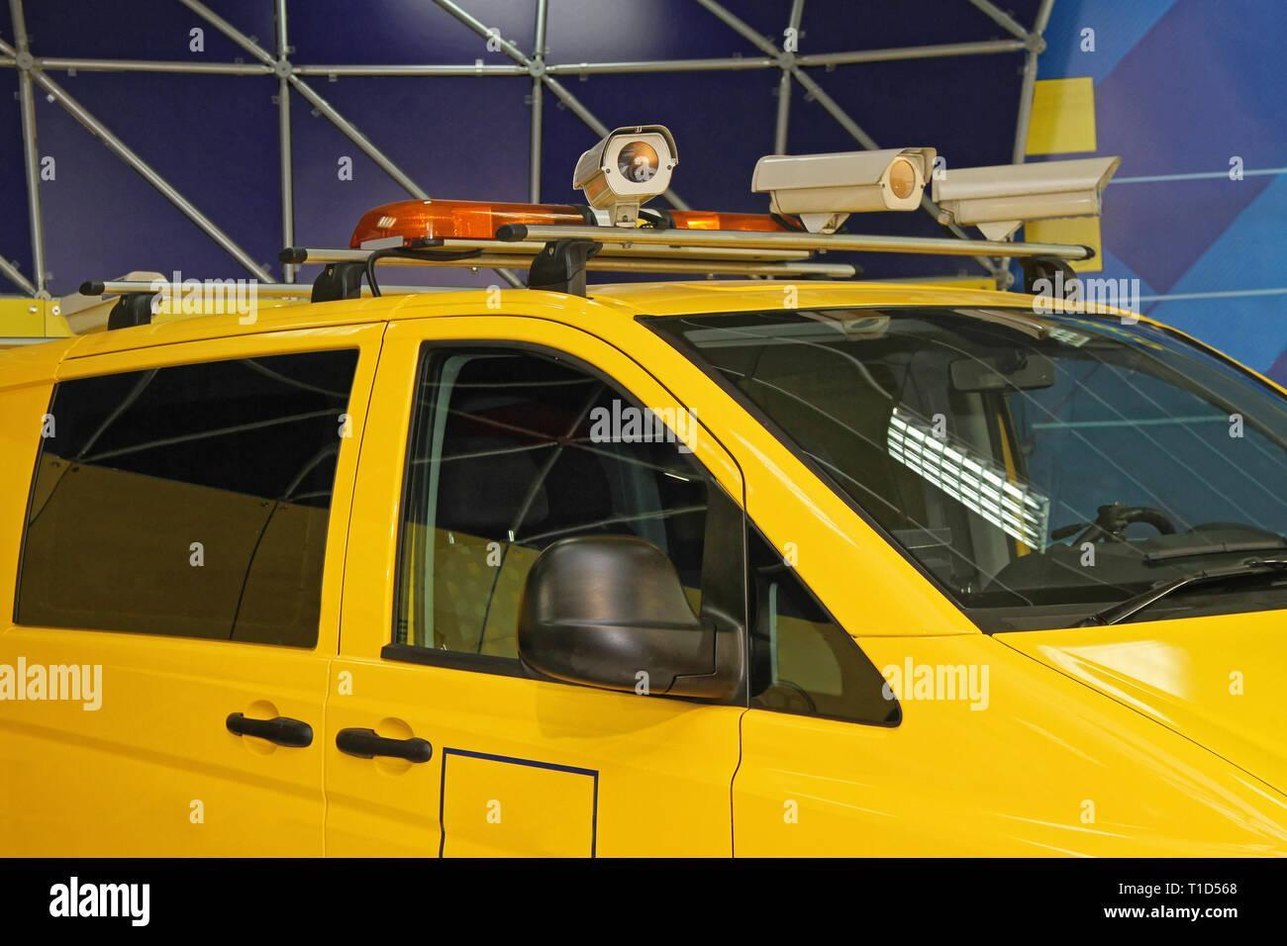Monitor: (729, 131, 950, 257), (543, 122, 702, 235)
